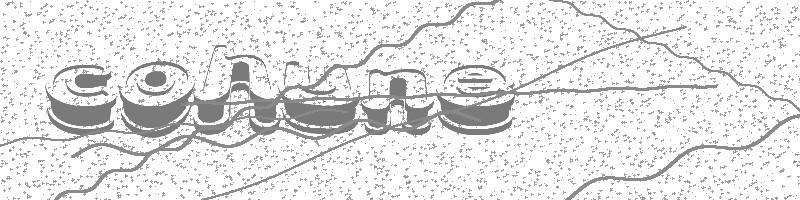c: (44, 62, 117, 136)
e: (436, 64, 515, 137)
h: (194, 43, 281, 136)
n: (361, 66, 435, 137)
o: (119, 59, 195, 138)
u: (282, 60, 360, 134)
